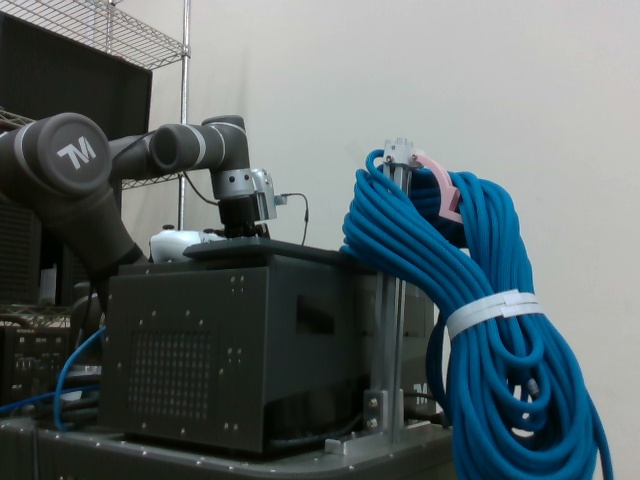rope: (338, 146, 616, 480)
